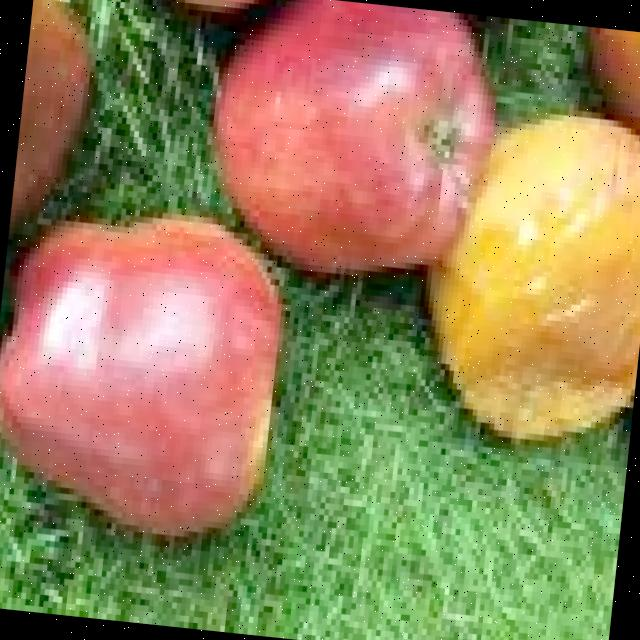Bad_Apple 0-1 day: (431, 27, 640, 437)
Good_Apple 10-21 days: (0, 220, 280, 527), (214, 0, 495, 272)
